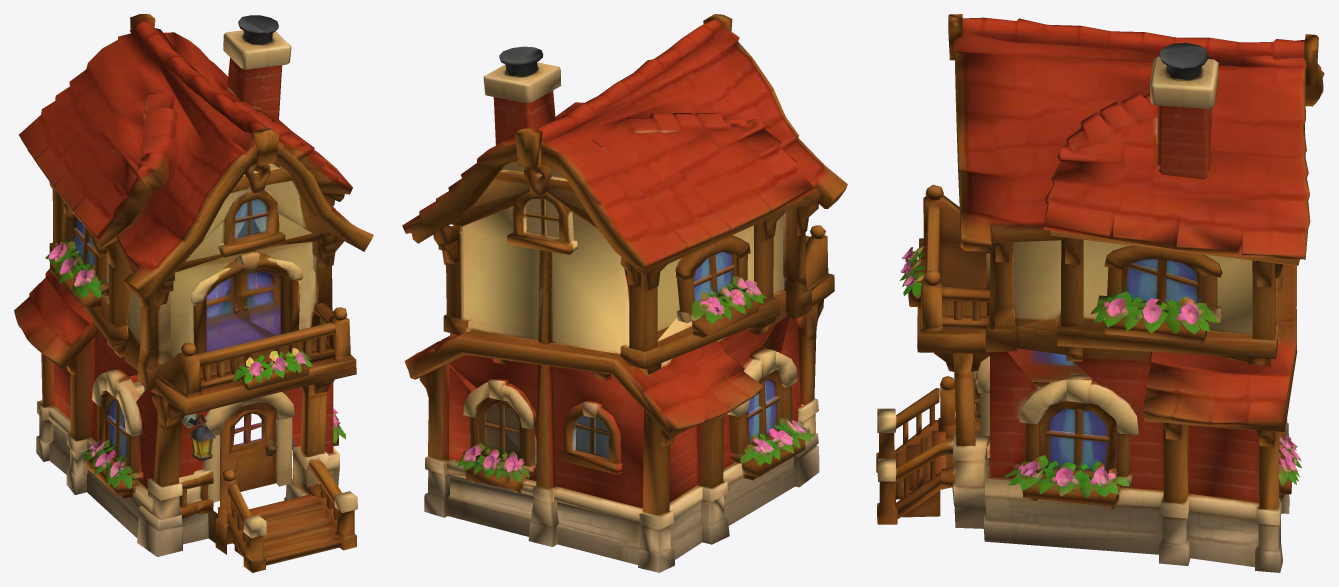
3 renders of one model, left to right at view 1: azimuth 30°, elevation 25°; view 2: azimuth 150°, elevation 25°; view 3: azimuth 270°, elevation 25°, orthographic. The views are drawn at different scales.
Visible parts, largest first — view 1: house-tier3; view 2: house-tier3; view 3: house-tier3.
Boxes of the visible parts, x1,y1,x2,y2 form: house-tier3: (14, 14, 373, 572); house-tier3: (402, 14, 847, 572); house-tier3: (876, 14, 1324, 572).
Bounding box in the file's own units: 6.06 × 8.37 × 6.93.
Materials: 1 (1 with a texture image).
